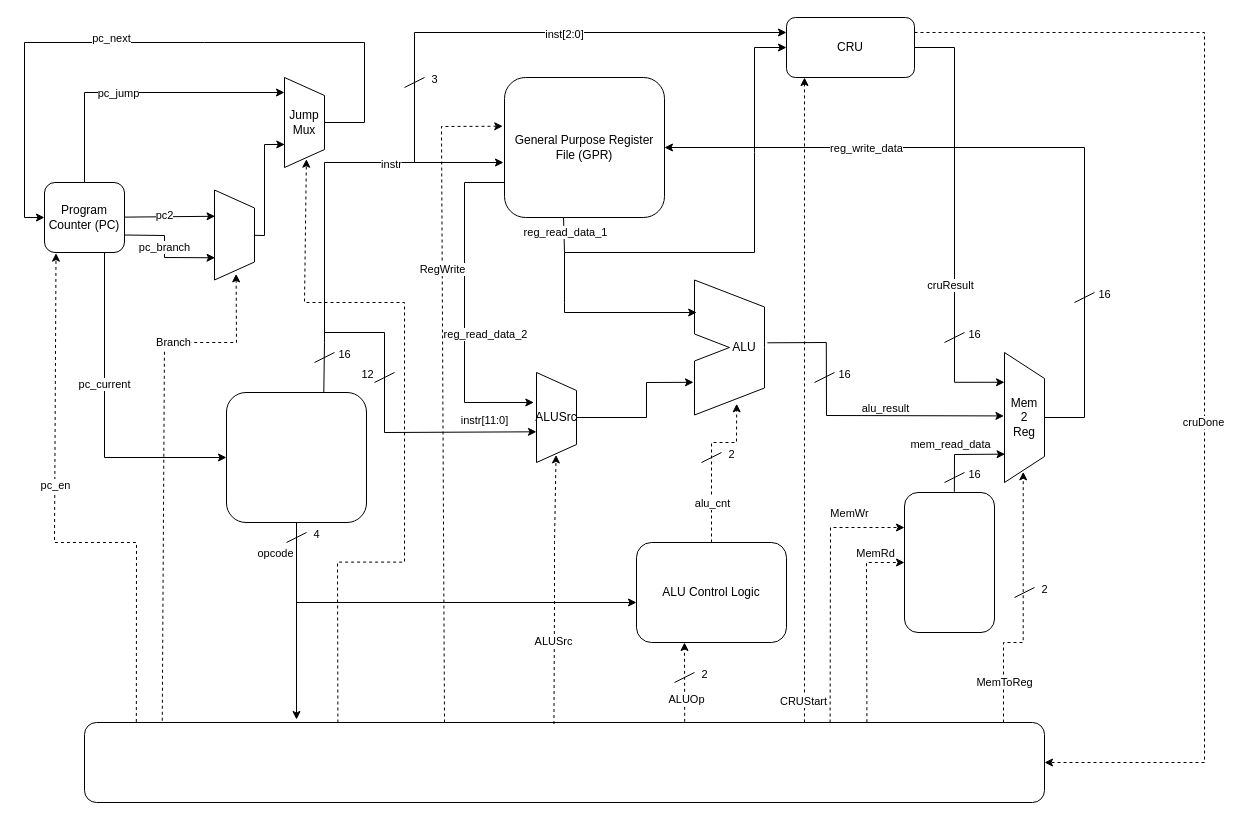
Some shapes in this 1241 by 820 pixel diagram are drawn without their labels. Each missing label, with the box of its shape:
Branch Mux: (214, 189, 254, 280)
Data Memory RAM: (904, 492, 994, 632)
Instruction Memory ROM: (226, 392, 366, 522)
Main Control Unit: (84, 722, 1044, 802)
